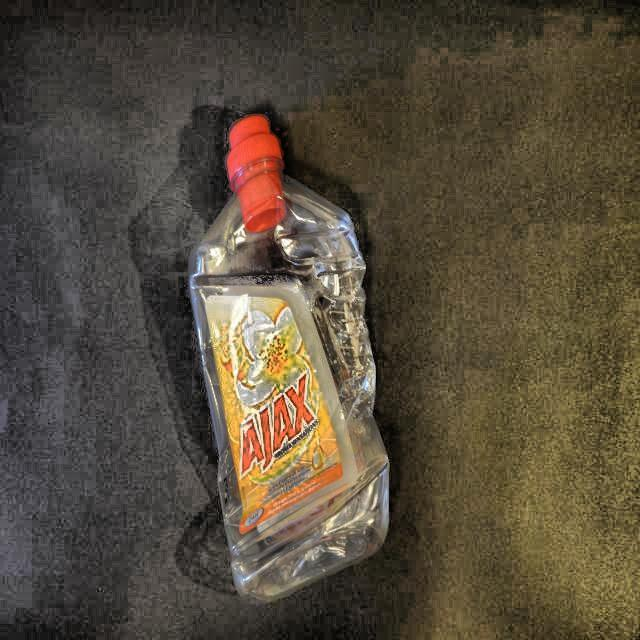plastic bottle: (190, 116, 389, 600)
